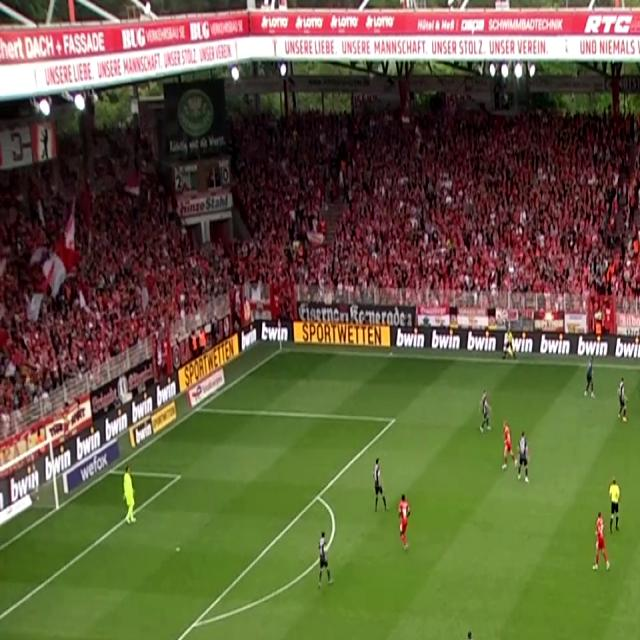goalkeeper: (117, 465, 143, 531)
referee: (604, 473, 630, 533)
soccer-player: (585, 510, 615, 579), (312, 529, 340, 595), (396, 490, 420, 556), (510, 430, 536, 490), (366, 456, 390, 516), (614, 375, 636, 428), (497, 415, 517, 473), (478, 386, 497, 436), (579, 355, 598, 400), (458, 623, 489, 640), (634, 361, 640, 416)
